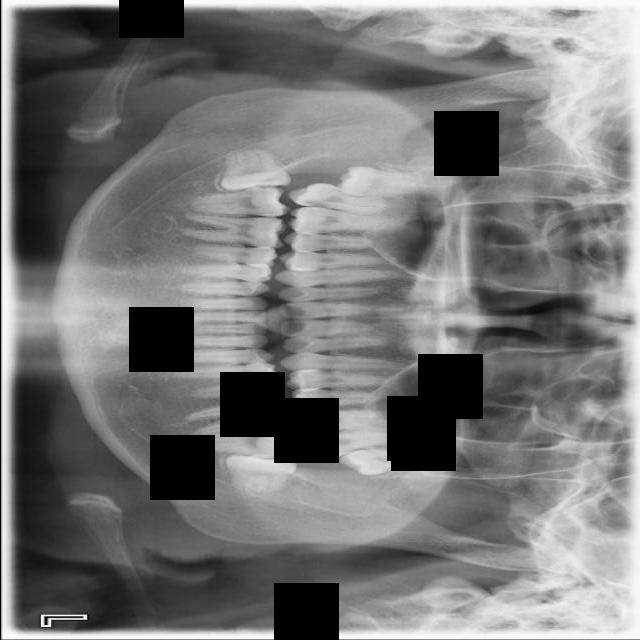3M ESPE Implant: (334, 166, 420, 196)
52: (316, 430, 340, 442), (304, 199, 329, 208), (258, 186, 270, 189)
73: (79, 582, 107, 584)
BioHorizons Implant: (295, 427, 395, 461)
BioLife Implant: (338, 449, 429, 476)
Biomet 3i Implant: (223, 453, 297, 496)
Blue Sky Bio Implant: (196, 425, 295, 462)
Caries: (285, 178, 391, 218)
Implant: (188, 181, 292, 219)
Keystone Dental Implant: (215, 143, 291, 195)
